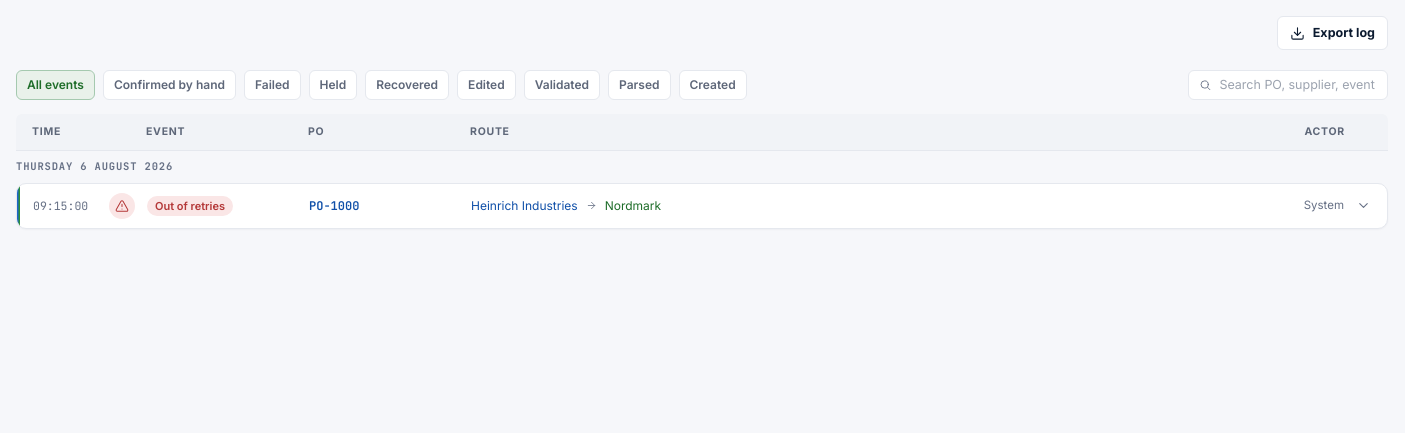
Test case: expanded failure row — the four shapes are distinguishable › DeliveryDeadLettered states how far the order got and what to do now
Click the button "PO-1000".
click(61, 205)  # box [17,184,1387,228]
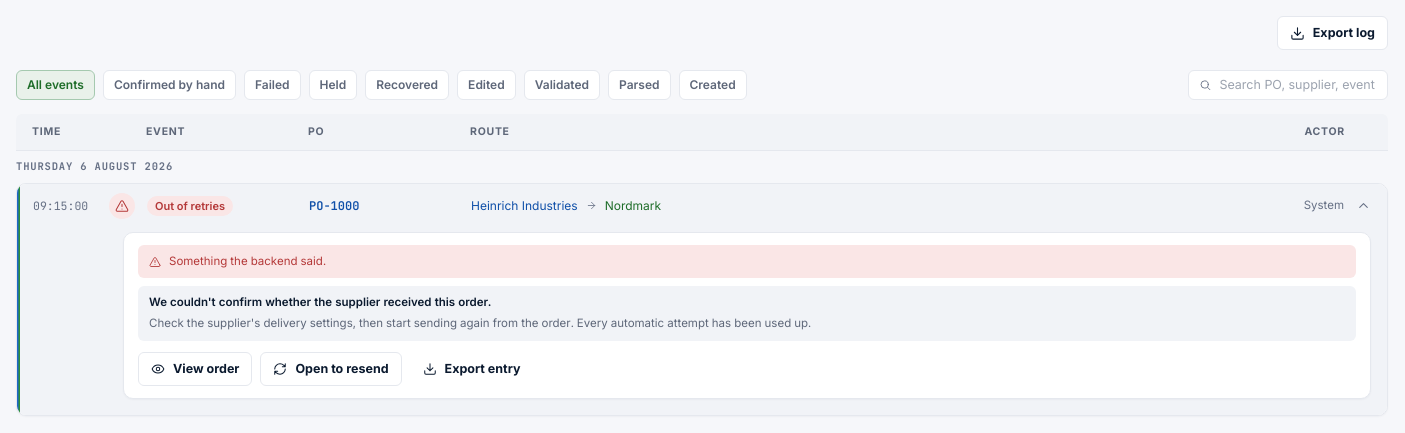
Now the element with test id "audit-remedy" is shown, box [138,286,1356,341]
Now the element with test id "audit-remedy" shows "We couldn't confirm whether the supplier received this order.", box [149,295,491,309]
